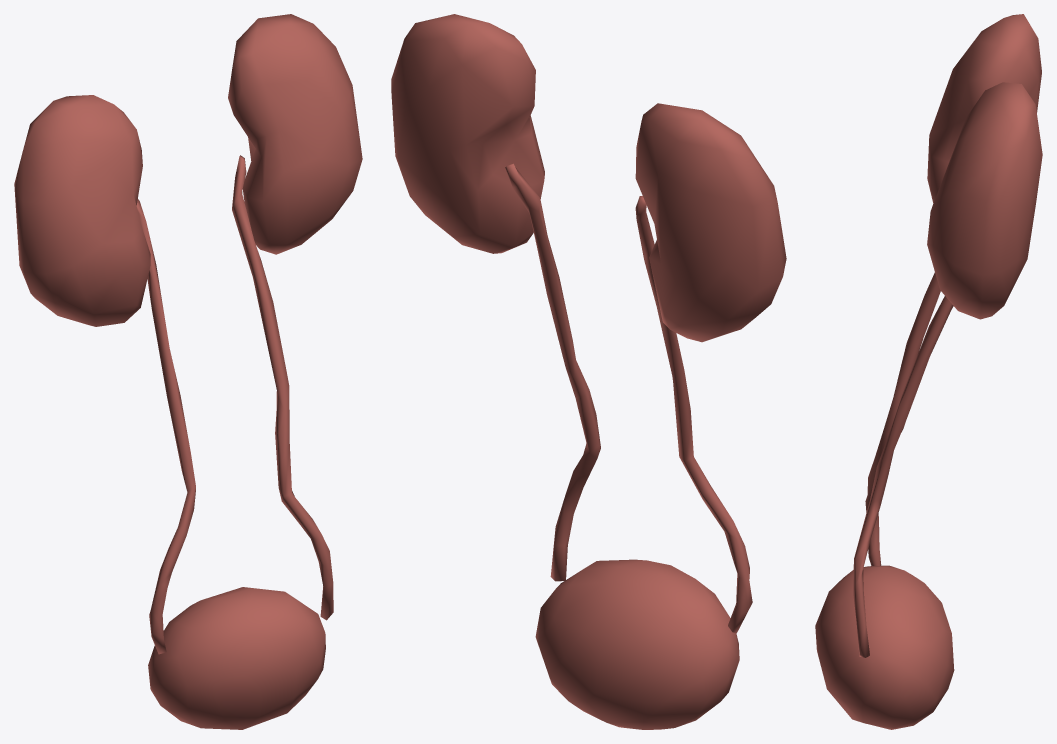
The model's file is pediatric_child_10y_male.urinary.LOD2.glb.
The picture shows the model from 3 angles, left to right: view 1: azimuth 30°, elevation 25°; view 2: azimuth 150°, elevation 25°; view 3: azimuth 270°, elevation 25°; orthographic projection. The views are drawn at different scales.
Visible parts, largest first — view 1: PEDIATRIC.CHILD_10Y.MALE.URINARY.KIDNEY_CORTEX.R, PEDIATRIC.CHILD_10Y.MALE.URINARY.KIDNEY_CORTEX.L, PEDIATRIC.CHILD_10Y.MALE.URINARY.URINARY_BLADDER_WALL, PEDIATRIC.CHILD_10Y.MALE.URINARY.URETER.L, PEDIATRIC.CHILD_10Y.MALE.URINARY.URETER.R; view 2: PEDIATRIC.CHILD_10Y.MALE.URINARY.KIDNEY_CORTEX.L, PEDIATRIC.CHILD_10Y.MALE.URINARY.URINARY_BLADDER_WALL, PEDIATRIC.CHILD_10Y.MALE.URINARY.KIDNEY_CORTEX.R, PEDIATRIC.CHILD_10Y.MALE.URINARY.URETER.L, PEDIATRIC.CHILD_10Y.MALE.URINARY.URETER.R; view 3: PEDIATRIC.CHILD_10Y.MALE.URINARY.KIDNEY_CORTEX.L, PEDIATRIC.CHILD_10Y.MALE.URINARY.URINARY_BLADDER_WALL, PEDIATRIC.CHILD_10Y.MALE.URINARY.KIDNEY_CORTEX.R, PEDIATRIC.CHILD_10Y.MALE.URINARY.URETER.L, PEDIATRIC.CHILD_10Y.MALE.URINARY.URETER.R.
Boxes of the visible parts, x1,y1,x2,y2 form: PEDIATRIC.CHILD_10Y.MALE.URINARY.KIDNEY_CORTEX.R: [14, 95, 150, 326]; PEDIATRIC.CHILD_10Y.MALE.URINARY.KIDNEY_CORTEX.L: [228, 14, 362, 254]; PEDIATRIC.CHILD_10Y.MALE.URINARY.URINARY_BLADDER_WALL: [148, 587, 325, 729]; PEDIATRIC.CHILD_10Y.MALE.URINARY.URETER.L: [232, 155, 333, 620]; PEDIATRIC.CHILD_10Y.MALE.URINARY.URETER.R: [136, 199, 195, 654]; PEDIATRIC.CHILD_10Y.MALE.URINARY.KIDNEY_CORTEX.L: [391, 14, 544, 253]; PEDIATRIC.CHILD_10Y.MALE.URINARY.URINARY_BLADDER_WALL: [535, 559, 739, 729]; PEDIATRIC.CHILD_10Y.MALE.URINARY.KIDNEY_CORTEX.R: [635, 103, 786, 342]; PEDIATRIC.CHILD_10Y.MALE.URINARY.URETER.L: [505, 163, 600, 581]; PEDIATRIC.CHILD_10Y.MALE.URINARY.URETER.R: [635, 196, 752, 633]; PEDIATRIC.CHILD_10Y.MALE.URINARY.KIDNEY_CORTEX.L: [927, 82, 1042, 319]; PEDIATRIC.CHILD_10Y.MALE.URINARY.URINARY_BLADDER_WALL: [815, 565, 954, 729]; PEDIATRIC.CHILD_10Y.MALE.URINARY.KIDNEY_CORTEX.R: [927, 14, 1041, 202]; PEDIATRIC.CHILD_10Y.MALE.URINARY.URETER.L: [853, 296, 953, 657]; PEDIATRIC.CHILD_10Y.MALE.URINARY.URETER.R: [865, 272, 940, 565].
Size of the model in its own units: 0.1563 by 0.285 by 0.0867.
